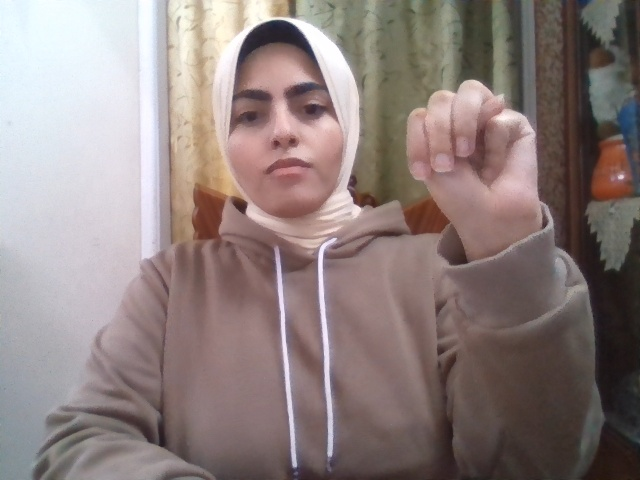M: (406, 80, 539, 231)
